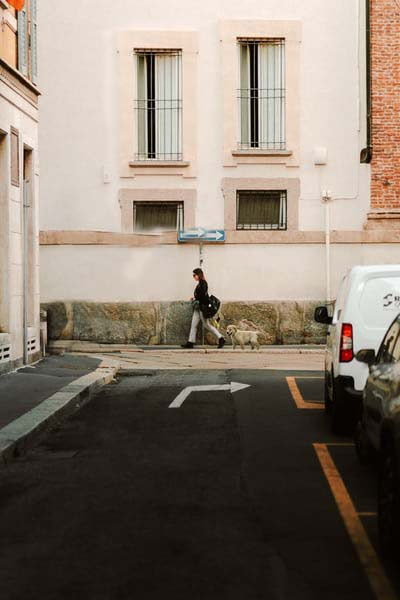copymove: (108, 27, 206, 237)
removal: (109, 249, 170, 273)
spliced: (225, 324, 268, 351)
